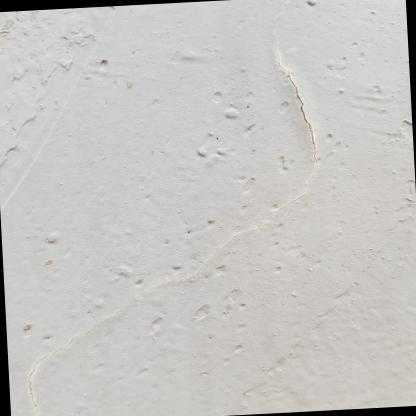crack: (24, 70, 323, 416)
